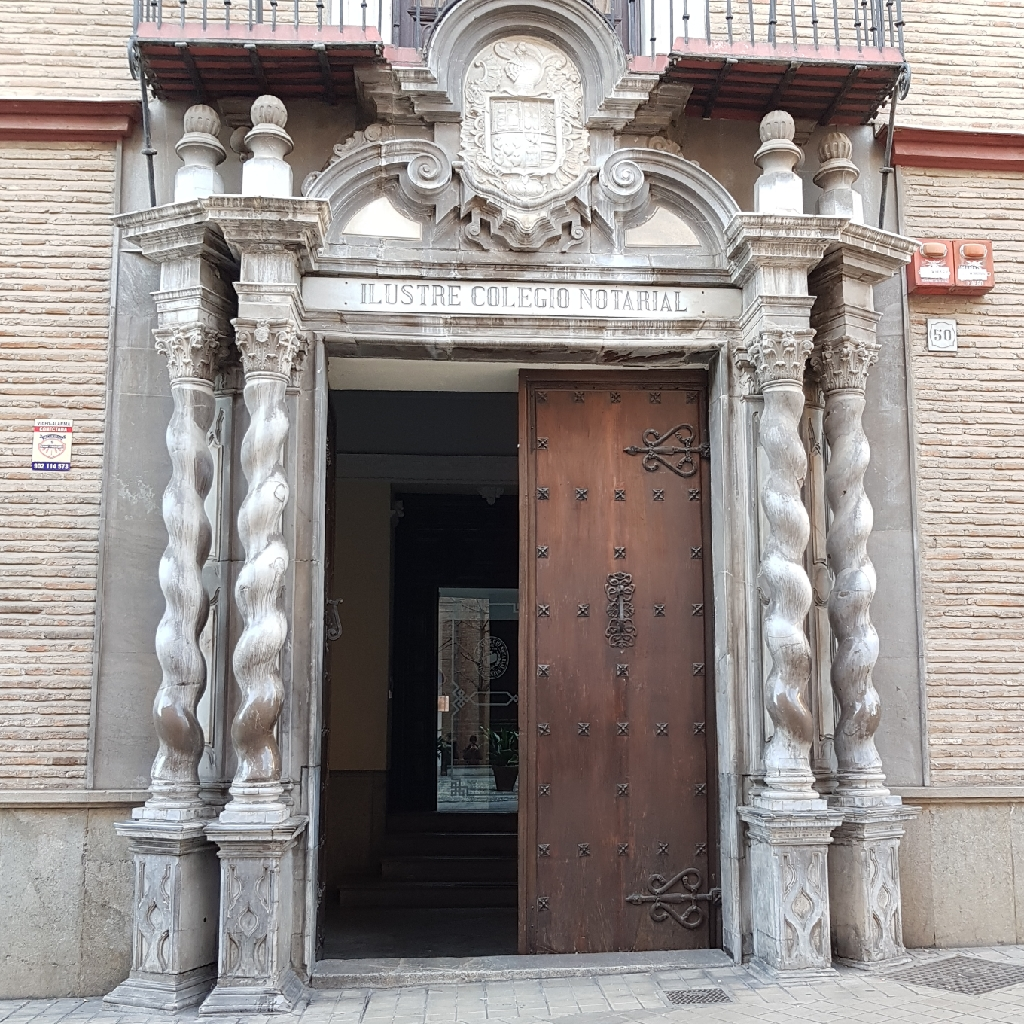columna-salomonica: (136, 380, 229, 797), (222, 351, 305, 802), (815, 371, 897, 792), (741, 379, 827, 778)
fronton-partido: (289, 131, 748, 274)
vano-adintelado: (278, 305, 780, 962)
